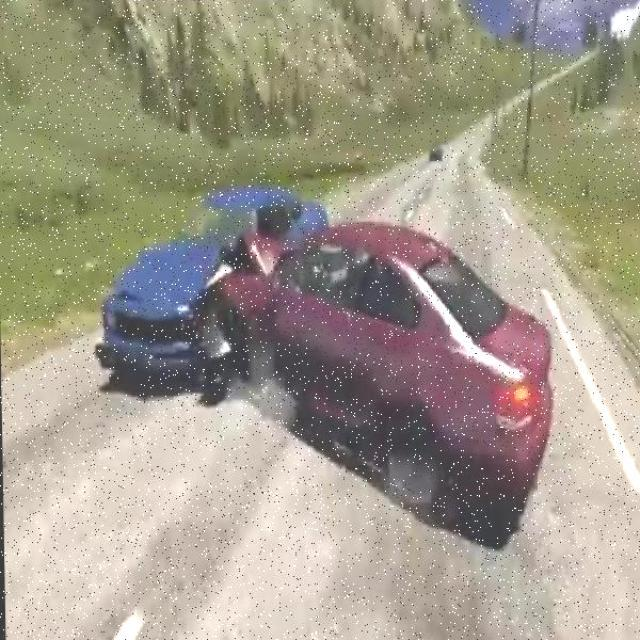accident: (137, 201, 409, 435)
